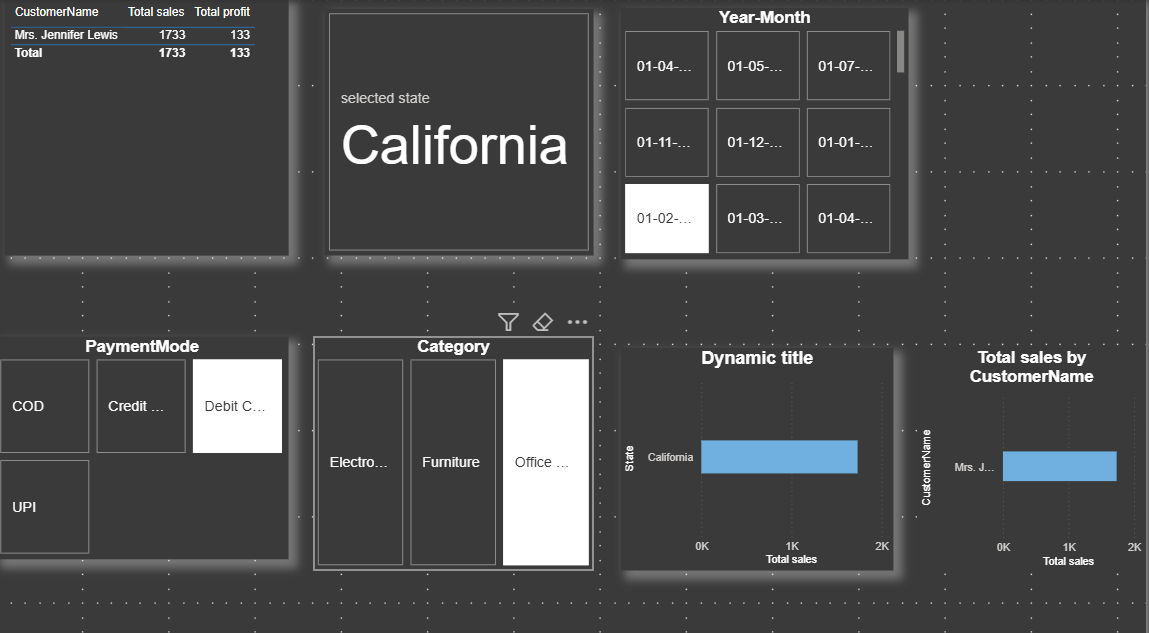

Layout of this report page (visuals, bound fields, positions):
{"tool":"powerbi","page":{"name":"Page 2","canvas":[1280,720],"ordinal":1},"visuals":[{"type":"tableEx","fields":{"Values":["Sales Dataset.CustomerName","Sales Dataset.Total sales","Sales Dataset.Total profit"]},"box":[9.7,0,315.8,285.2],"z":0},{"type":"cardVisual","fields":{"Data":["Min(Sales Dataset.State)"]},"box":[365.9,11.1,299.1,274.1],"z":2000},{"type":"advancedSlicerVisual","fields":{"Values":["Sales Dataset.Year-Month"]},"box":[695.7,9.7,320,279.7],"z":3000},{"type":"advancedSlicerVisual","fields":{"Values":["Sales Dataset.PaymentMode"]},"box":[0,375.7,325.6,247.7],"z":4000},{"type":"clusteredBarChart","title":"Dynamic title","fields":{"Category":["Sales Dataset.State"],"Y":["Sales Dataset.Total sales"]},"box":[695.7,388.2,303.3,247.7],"z":4001},{"type":"advancedSlicerVisual","fields":{"Values":["Sales Dataset.Category"]},"box":[353.4,375.7,311.7,260.2],"z":4003},{"type":"clusteredBarChart","fields":{"Category":["Sales Dataset.CustomerName"],"Y":["Sales Dataset.Total sales"]},"box":[1025.4,388.2,254.6,249],"z":4004}]}

Visuals, with their boxes in screenshot pixels (x1, y1, x2, y2), scaled from the page's 1280x720 canvas onto the 1149x633 screenshot:
tableEx - Sales Dataset.CustomerName x Sales Dataset.Total sales: bbox(9, 0, 292, 251)
cardVisual - Min(Sales Dataset.State): bbox(328, 10, 597, 251)
advancedSlicerVisual - Sales Dataset.Year-Month: bbox(624, 9, 912, 254)
advancedSlicerVisual - Sales Dataset.PaymentMode: bbox(0, 330, 292, 548)
"Dynamic title" clusteredBarChart: bbox(624, 341, 897, 559)
advancedSlicerVisual - Sales Dataset.Category: bbox(317, 330, 597, 559)
clusteredBarChart - Sales Dataset.CustomerName x Sales Dataset.Total sales: bbox(920, 341, 1148, 560)
